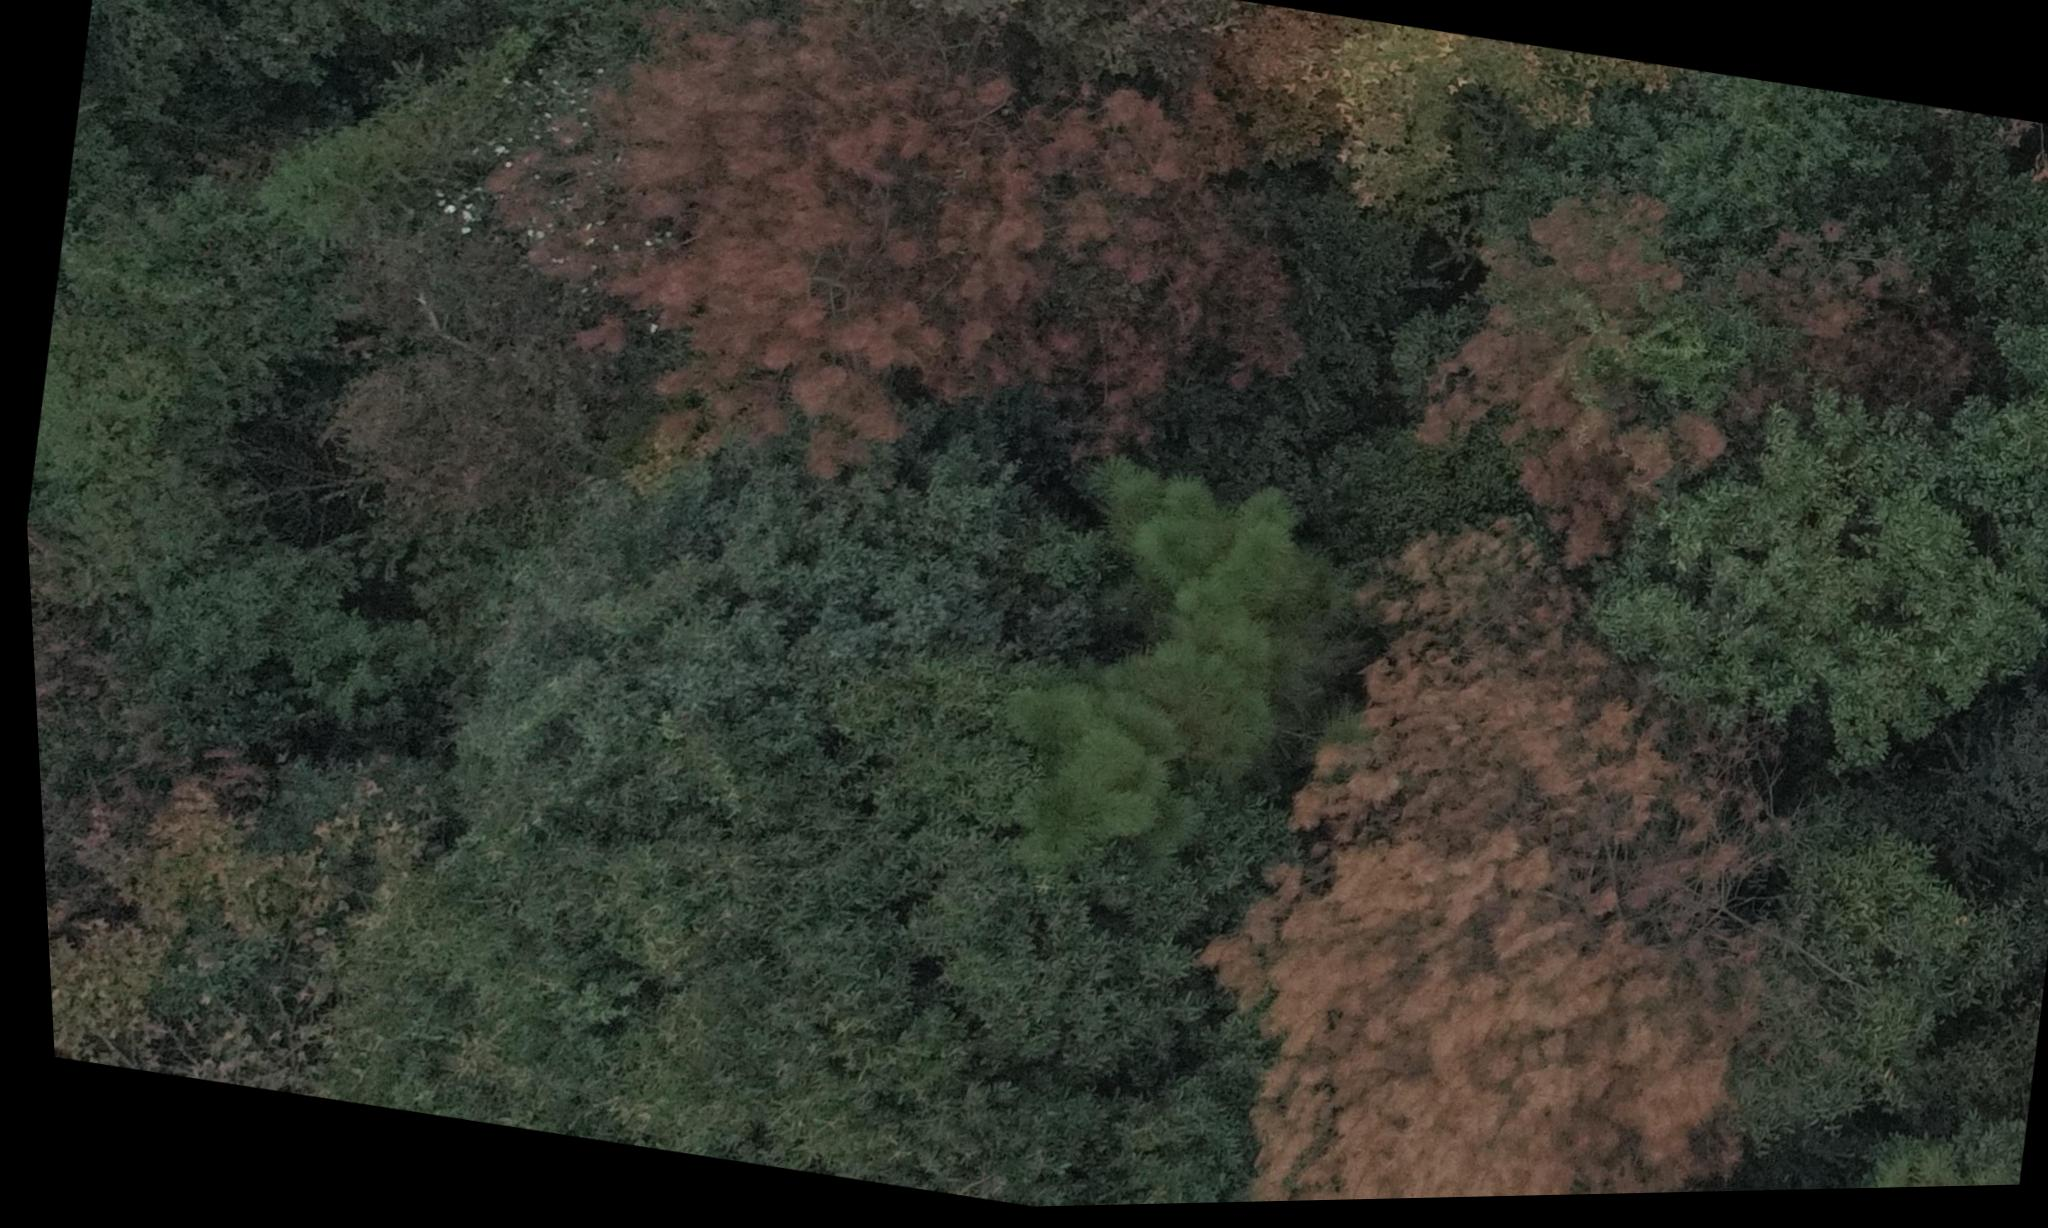heavy: (458, 0, 1342, 564), (1164, 541, 1811, 1208)
light: (1361, 165, 1783, 604)
